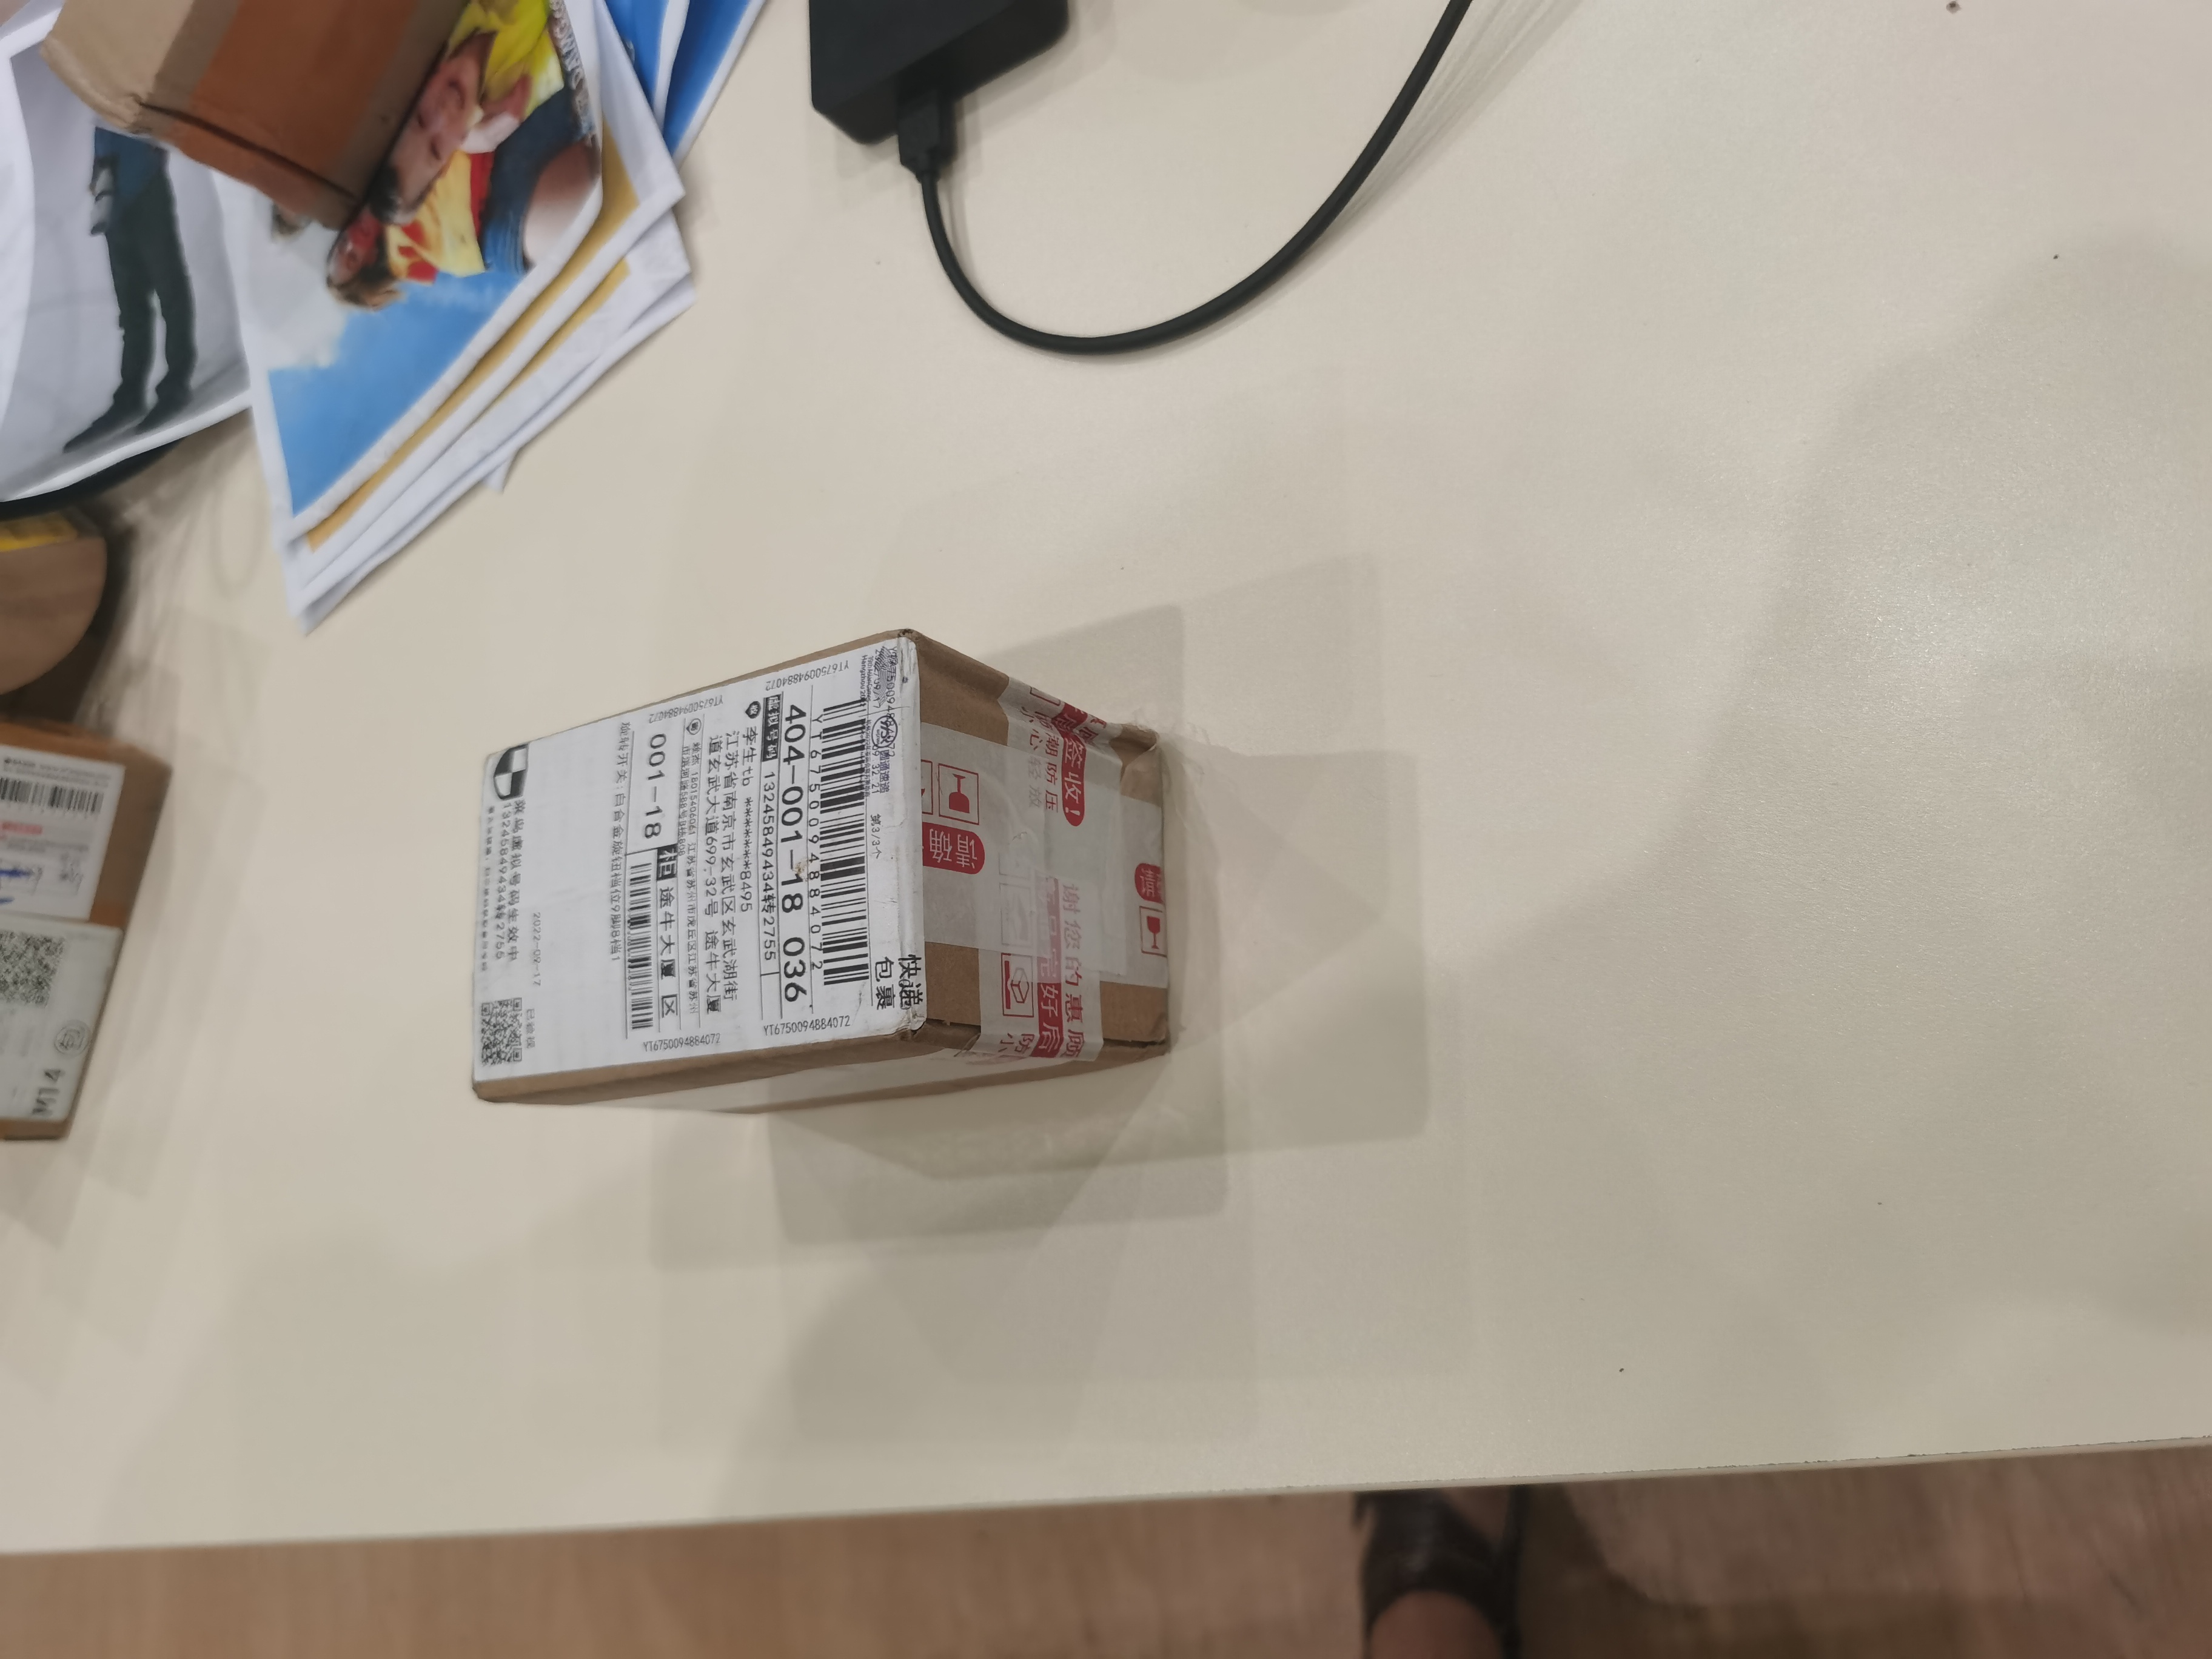box: (449, 631, 1186, 1154)
